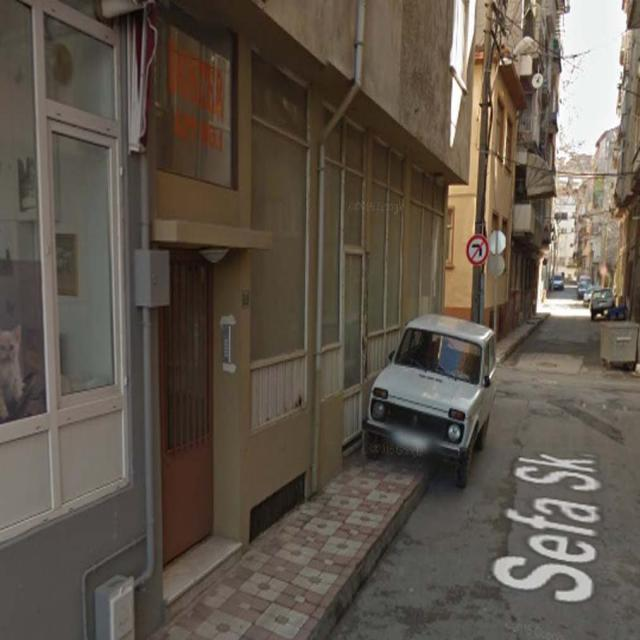soladonulmez: (466, 234, 489, 266)
